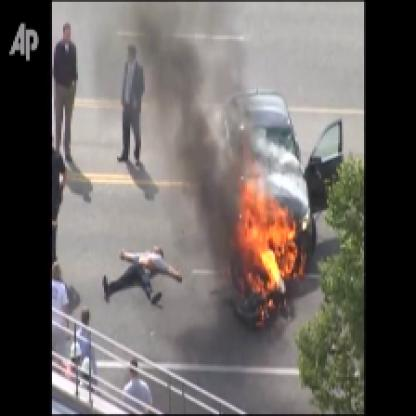Fire: (228, 124, 299, 325)
Smoke: (138, 2, 240, 273)
